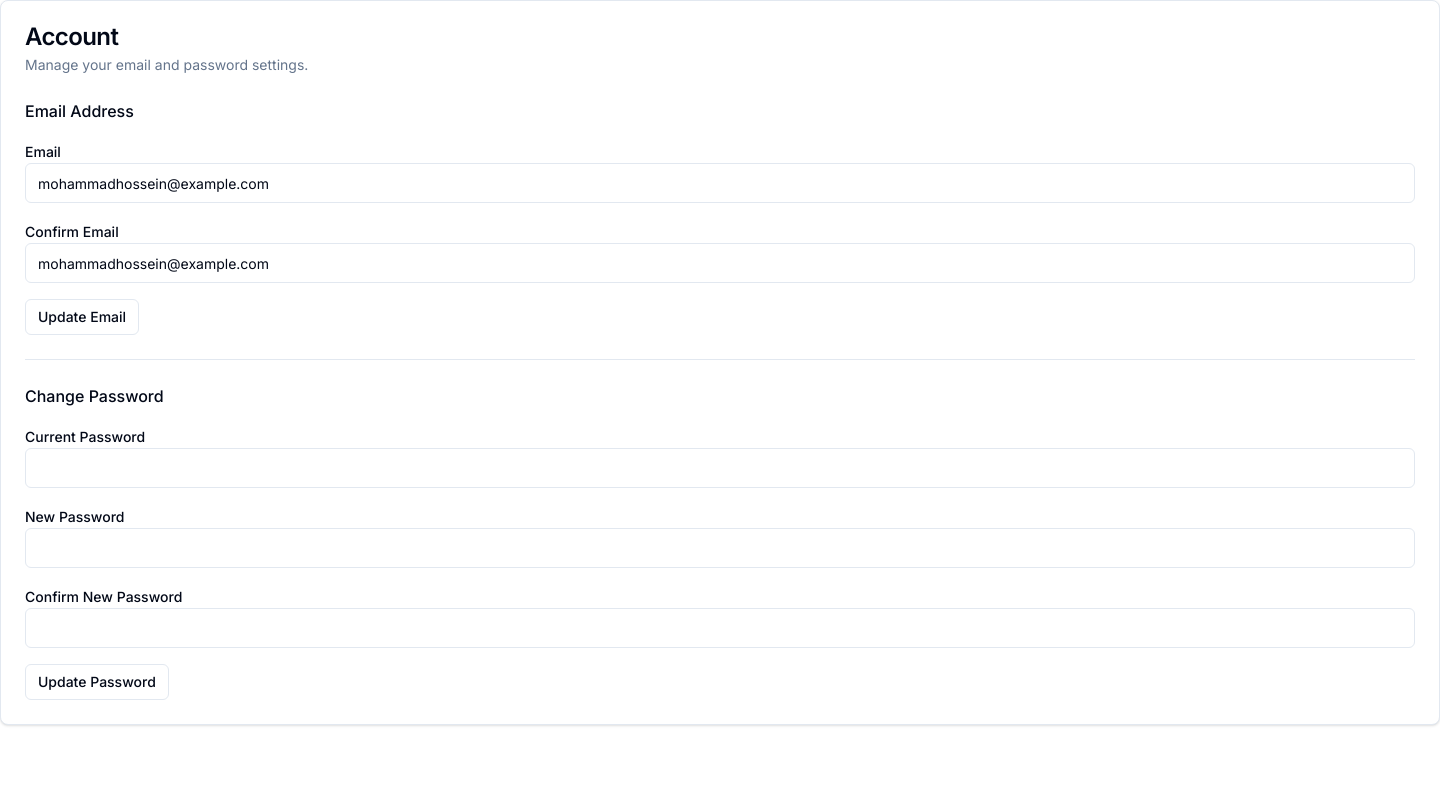
Test: AccountTab › accepts a valid password change and clears the fields
Type "old-secret" into the password field labelled "Current Password".
click(720, 468); type("old-secret")  # box [25,448,1415,488]
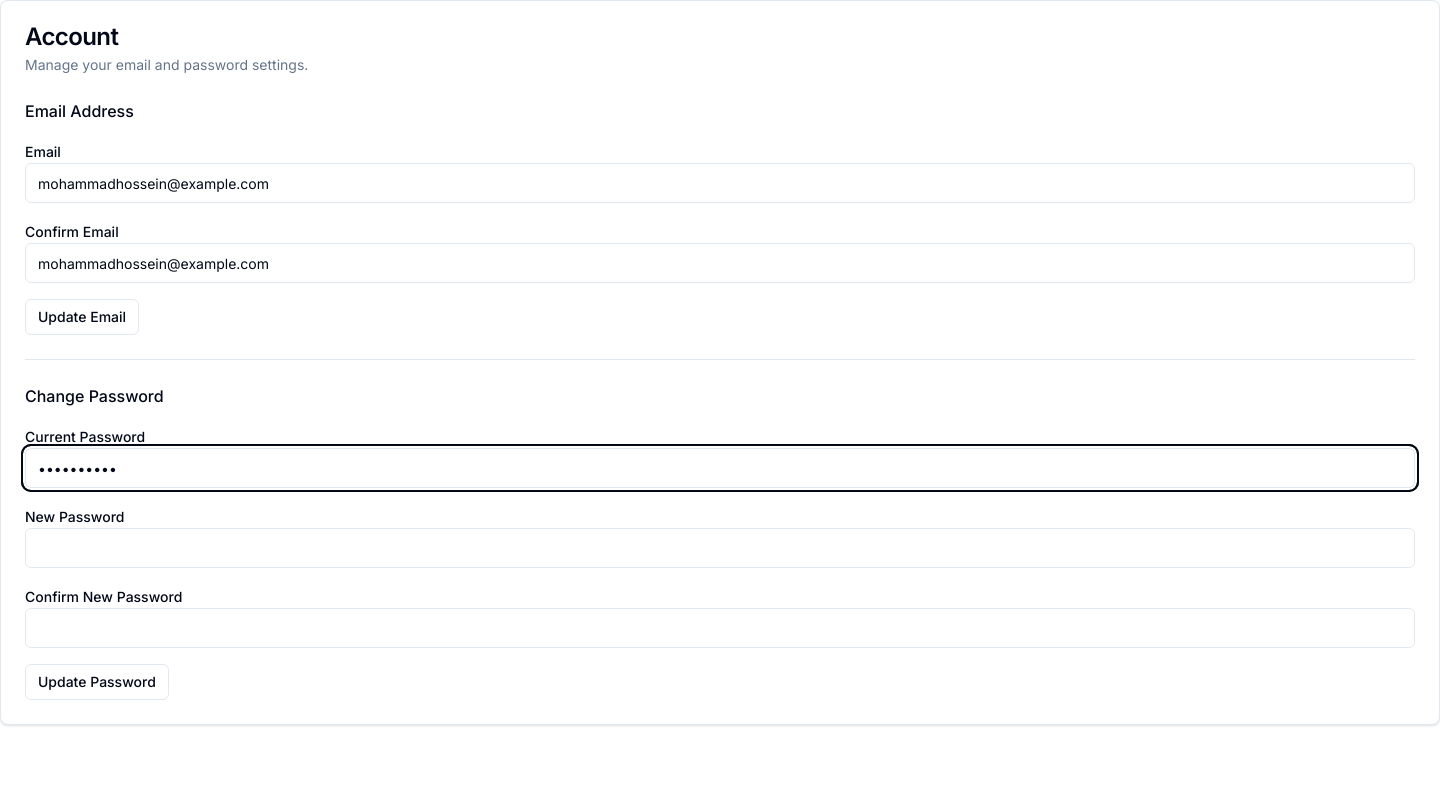
Type "longenough1" into the password field labelled "New Password".
click(720, 548); type("longenough1")  # box [25,528,1415,568]
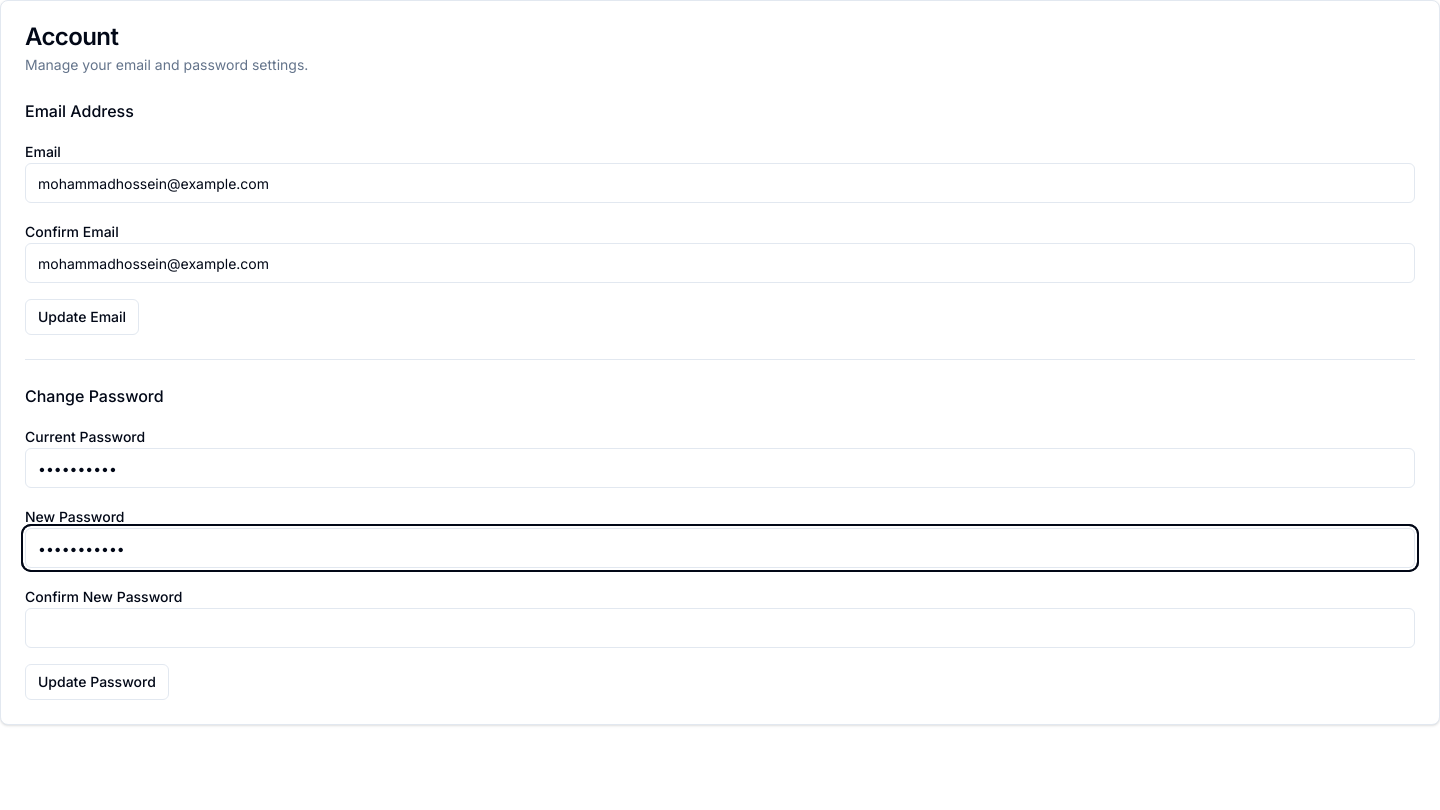
Type "longenough1" into the password field labelled "Confirm New Password".
click(720, 628); type("longenough1")  # box [25,608,1415,648]
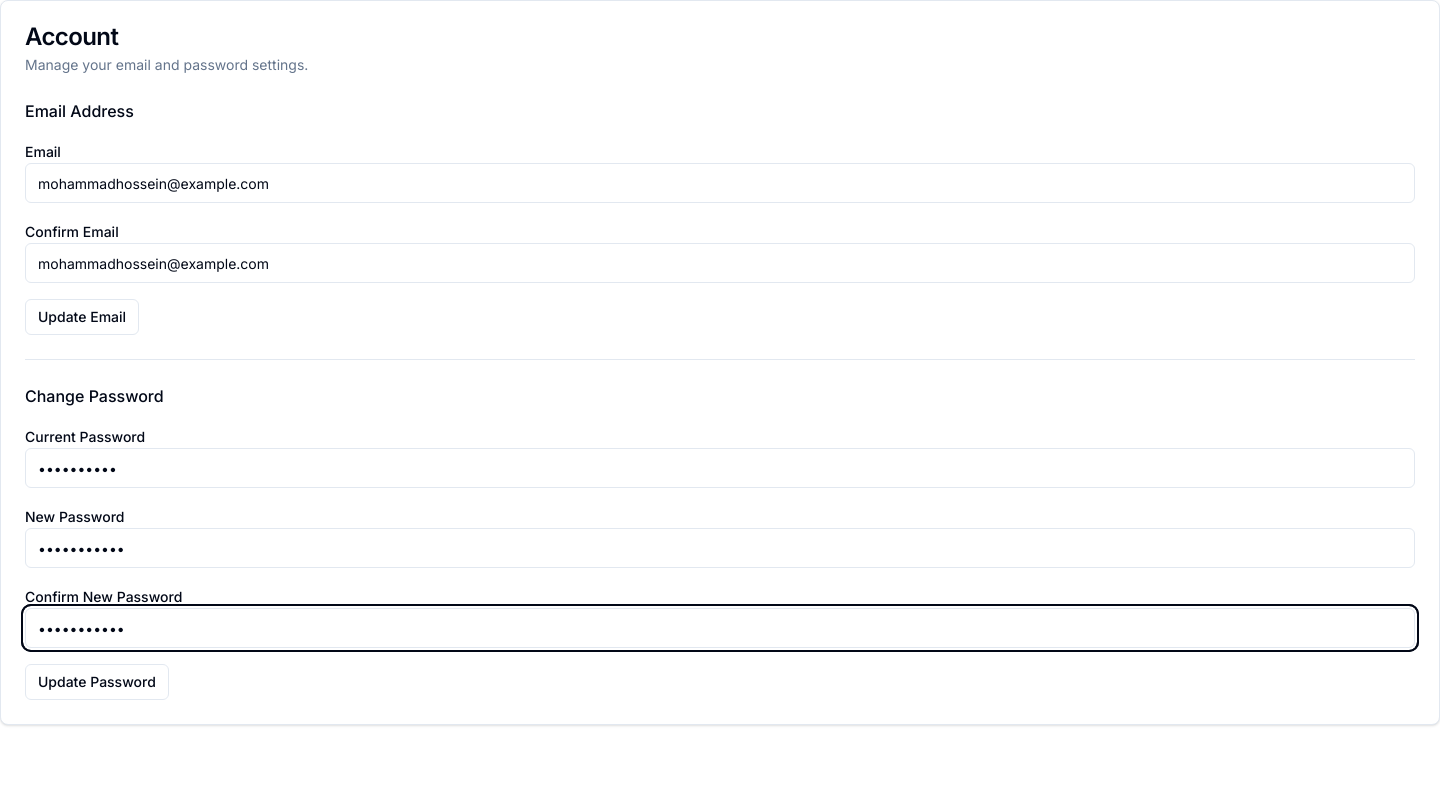
Click the button "Update Password".
click(97, 682)  # box [25,664,169,700]
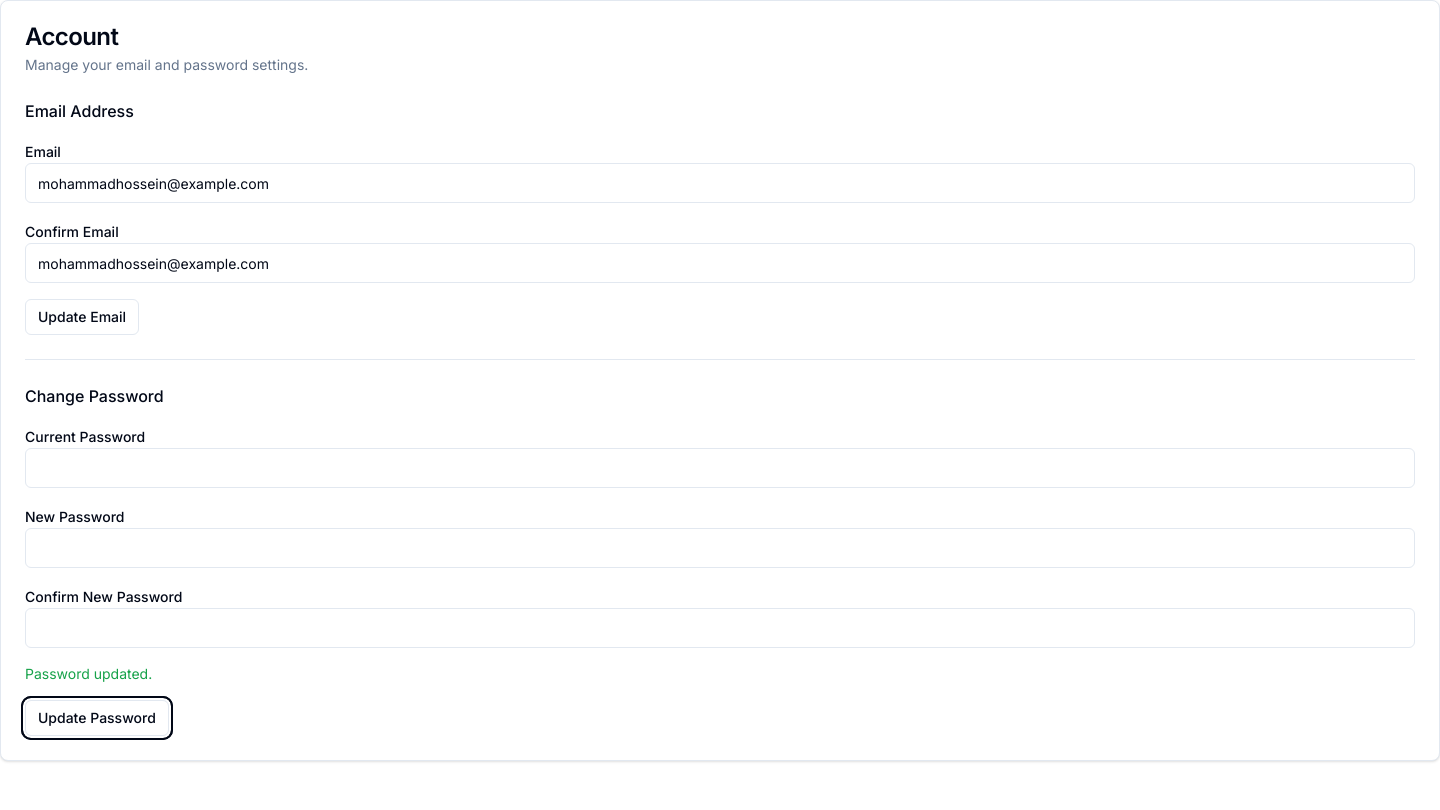
Now the message reads "Password updated.", box [25,665,152,682]
Now the password field labelled "Current Password" is empty, box [25,448,1415,488]
Now the password field labelled "New Password" is empty, box [25,528,1415,568]
